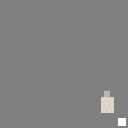supply_truck: (101, 97, 114, 113)
